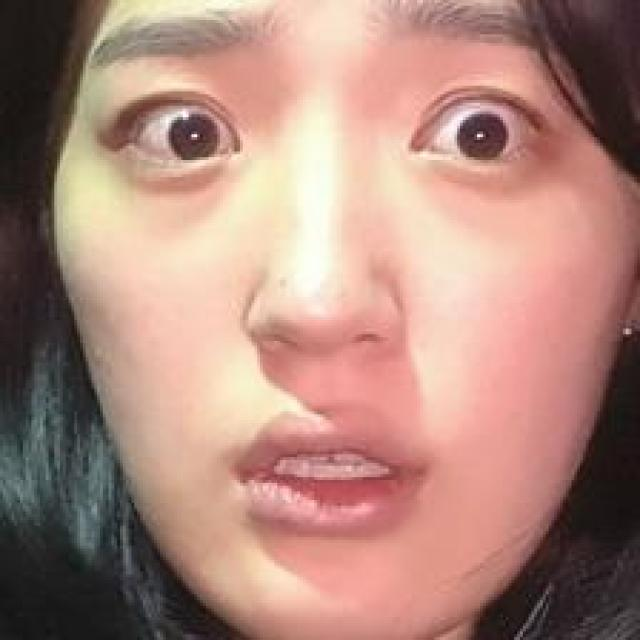fear: (91, 12, 562, 580)
